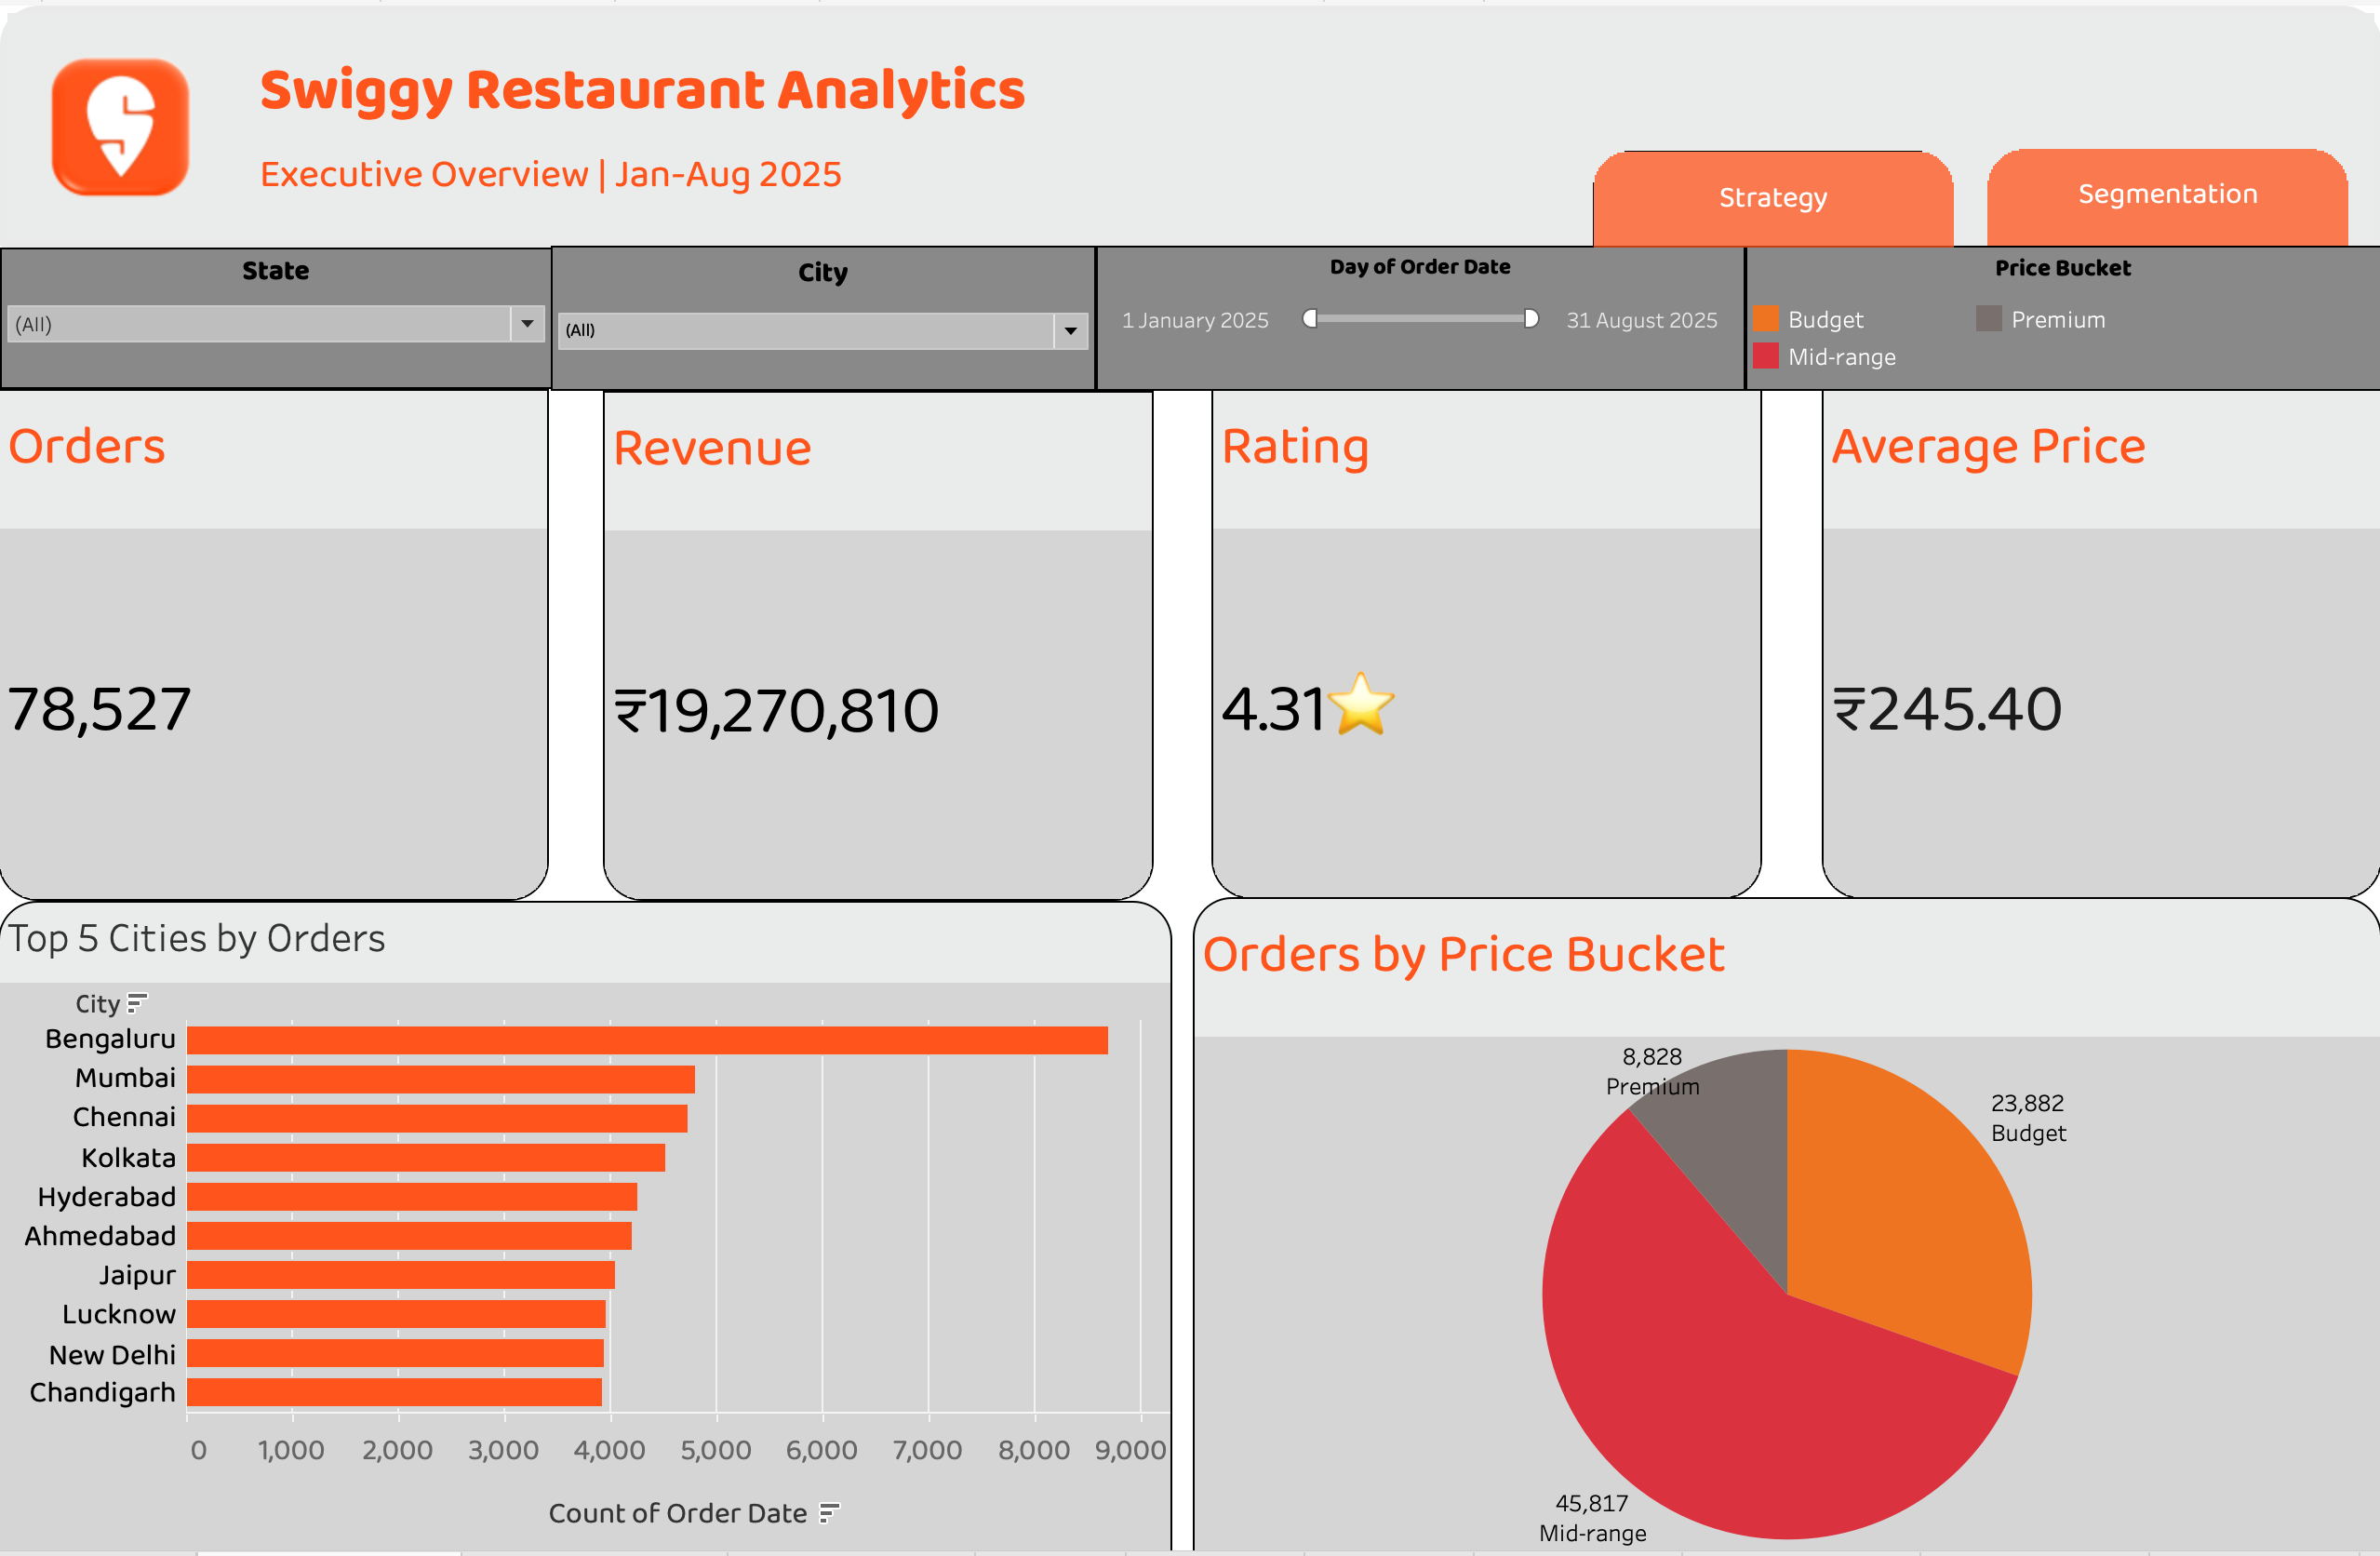

Layout of this report page (visuals, bound fields, positions):
{"tool":"tableau","page":{"name":"Executive Overview","canvas":[1000,1000],"units":"permille","ordinal":1},"visuals":[{"type":"image","box":[0,0,1000,156.6]},{"type":"text","box":[107.4,15.7,423.2,125.3]},{"type":"dashboard-object","box":[834.3,92.8,151.8,62.6]},{"type":"dashboard-object","box":[668.5,94,151.8,62.6]},{"type":"filter","title":"KPI_AOV","param":"[federated.1q0qyy50xehci41bffdp304ssvv3].[none:city:nk]","box":[231.2,155.4,228.9,94]},{"type":"filter","title":"Chart_TopCities","param":"[federated.1q0qyy50xehci41bffdp304ssvv3].[tdy:order_date:qk]","box":[460.2,155.4,272.7,94]},{"type":"legend","title":"Chart_PriceBuckets","param":"[federated.1q0qyy50xehci41bffdp304ssvv3].[none:price_bucket:nk]","box":[732.8,155.4,267.2,94]},{"type":"filter","title":"KPI_Orders","param":"[federated.1q0qyy50xehci41bffdp304ssvv3].[none:state:nk]","box":[0,156.6,232,91.6]},{"type":"worksheet","title":"KPI_Rating","mark":"Automatic","box":[508.6,248.2,231.2,330.1]},{"type":"worksheet","title":"KPI_AOV","mark":"Automatic","box":[764.8,248.2,235.2,330.1]},{"type":"worksheet","title":"KPI_Revenue","mark":"Automatic","box":[253.1,249.4,231.2,330.1]},{"type":"worksheet","title":"Chart_PriceBuckets","mark":"Pie","box":[500.8,577.1,499.2,425.3]}]}

Visuals, with their boxes on the dashboard's canvas, which has no fixed pixel size, in thousandths of its width and height (x1, y1, x2, y2). These are canvas units, not pixel positions in the 2380x1556 screenshot, which may show the page scaled, cropped or inside an application window:
image: <region>0, 0, 1000, 157</region>
text: <region>107, 16, 531, 141</region>
dashboard-object: <region>834, 93, 986, 155</region>
dashboard-object: <region>668, 94, 820, 157</region>
"KPI_AOV" filter: <region>231, 155, 460, 249</region>
"Chart_TopCities" filter: <region>460, 155, 733, 249</region>
"Chart_PriceBuckets" legend: <region>733, 155, 1000, 249</region>
"KPI_Orders" filter: <region>0, 157, 232, 248</region>
"KPI_Rating" worksheet: <region>509, 248, 740, 578</region>
"KPI_AOV" worksheet: <region>765, 248, 1000, 578</region>
"KPI_Revenue" worksheet: <region>253, 249, 484, 580</region>
"Chart_PriceBuckets" worksheet (Pie marks): <region>501, 577, 1000, 1002</region>
